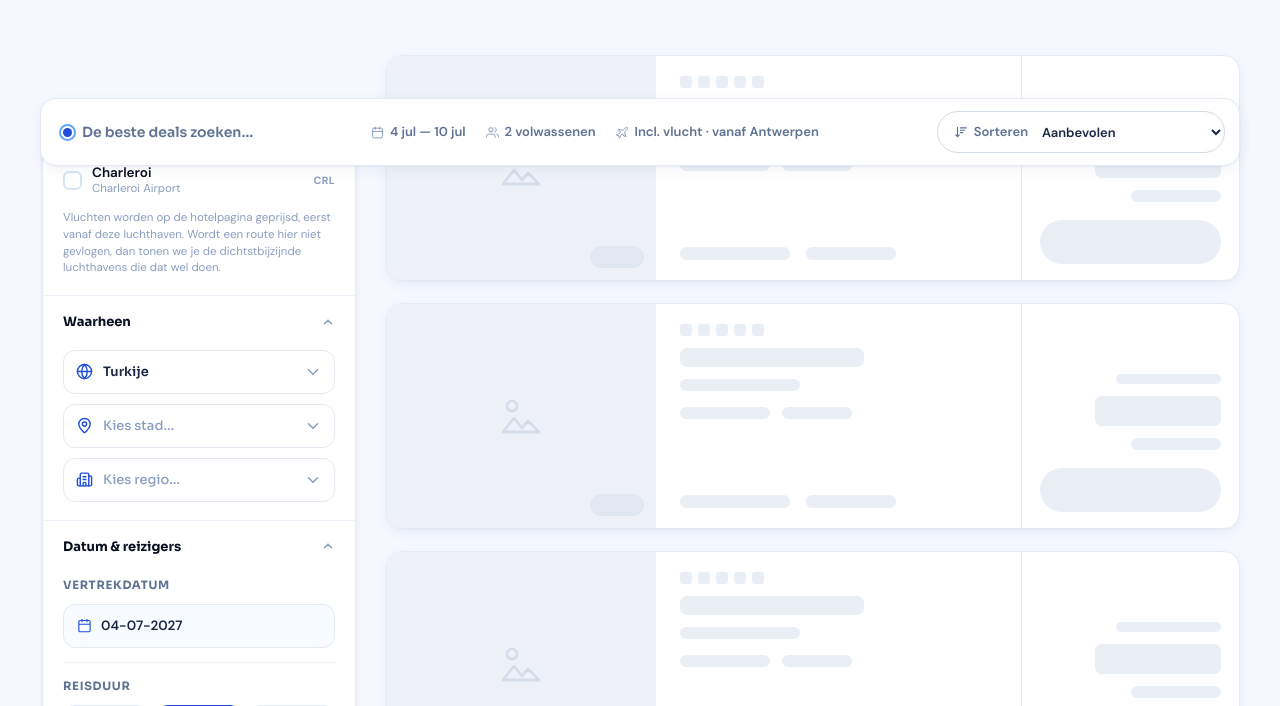
Test case: Results: ask before dropping airports that clash with a new Where pick › one ticked airport that does not fit: Side is not taken until the airport changes
(page scrolled)
Press the mouse on the dropdown with test id "scope-city": point(198, 426) [103,417,294,434]
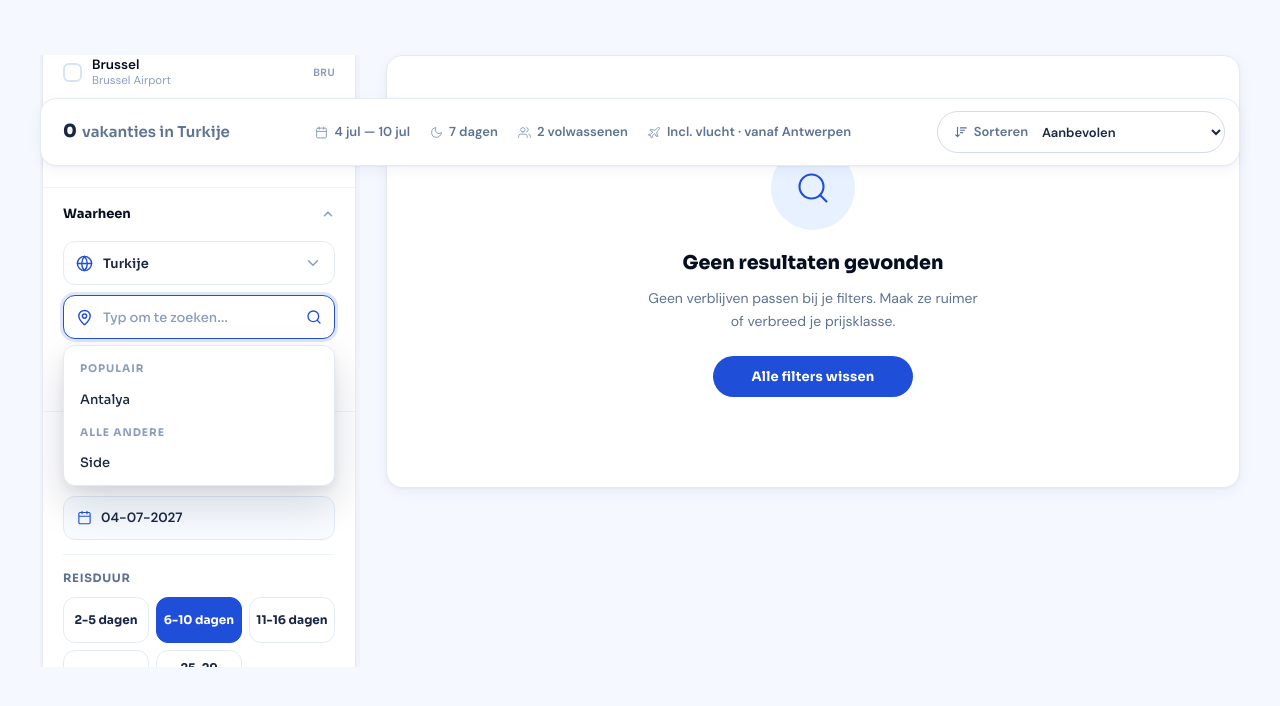
Click the option "Side": point(199, 463) [70,446,328,479]
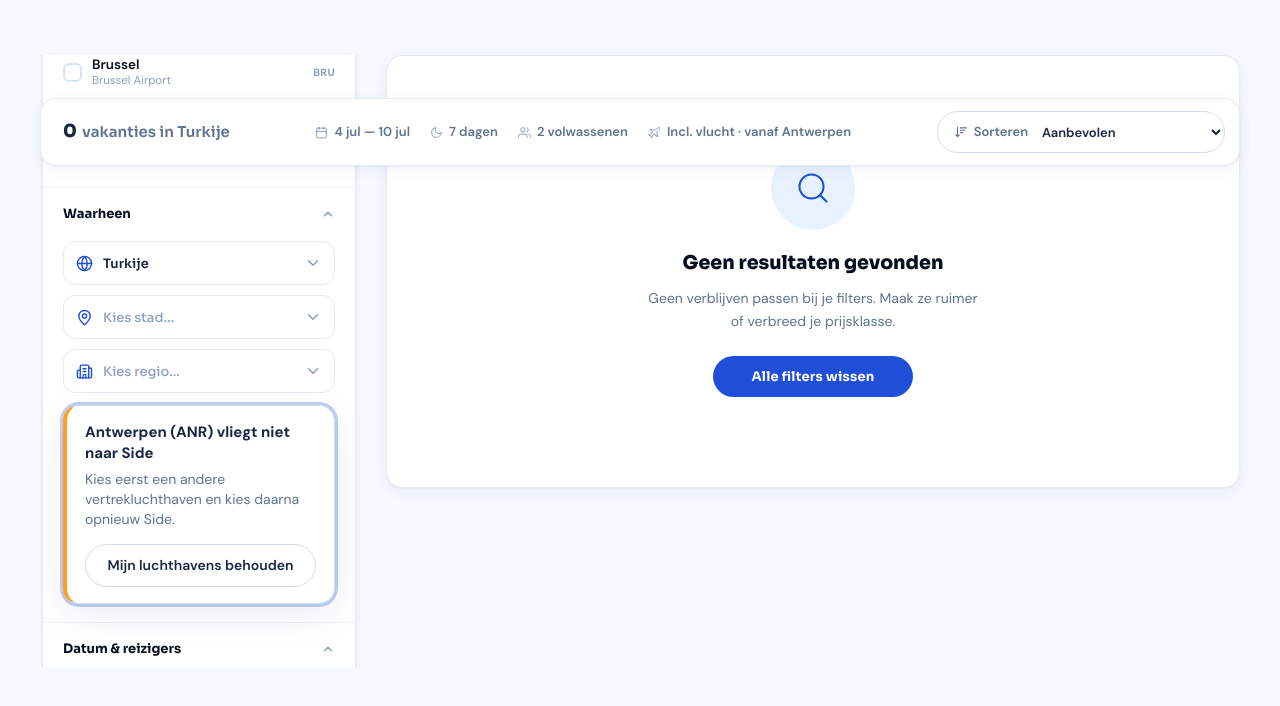
Expected: the dialog shows "Antwerpen (ANR) vliegt niet naar Side", [85,422,290,463]
Expected: the dialog shows "Kies eerst een andere vertrekluchthaven", [85,470,299,528]
